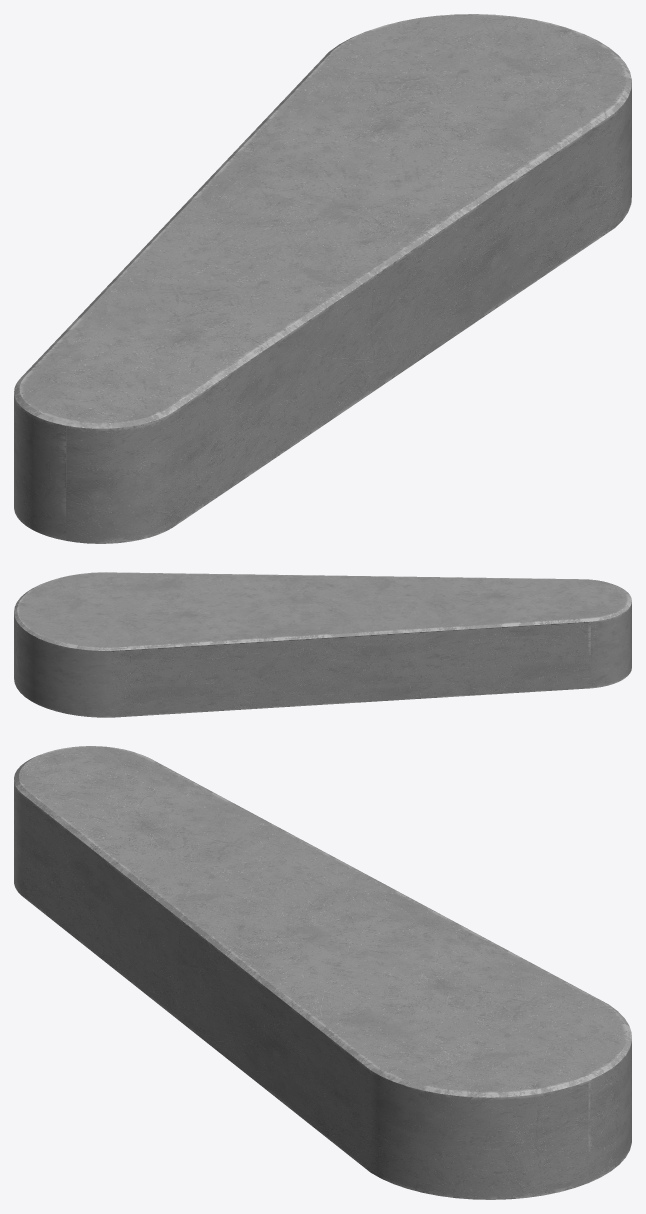
Rendered from newpinball_rebar21.fbx.
3 views of the same model, one above another, from view 1: azimuth 30°, elevation 25°; view 2: azimuth 150°, elevation 25°; view 3: azimuth 270°, elevation 25° (orthographic). The views are drawn at different scales.
Parts seen in each view (by area): view 1: rebar21; view 2: rebar21; view 3: rebar21.
Part boxes in pixels (x1,y1,x2,y2): rebar21: [14, 14, 631, 543]; rebar21: [14, 572, 631, 717]; rebar21: [14, 746, 631, 1199].
Bounding box in the file's own units: 40.82 × 5.7 × 30.38.
